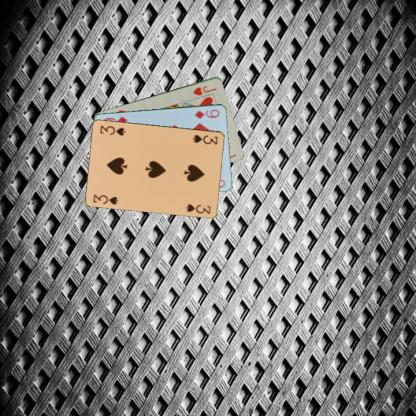3s: (190, 132, 219, 146), (90, 192, 119, 206)
9d: (192, 106, 221, 120)
Jh: (190, 82, 218, 96)
